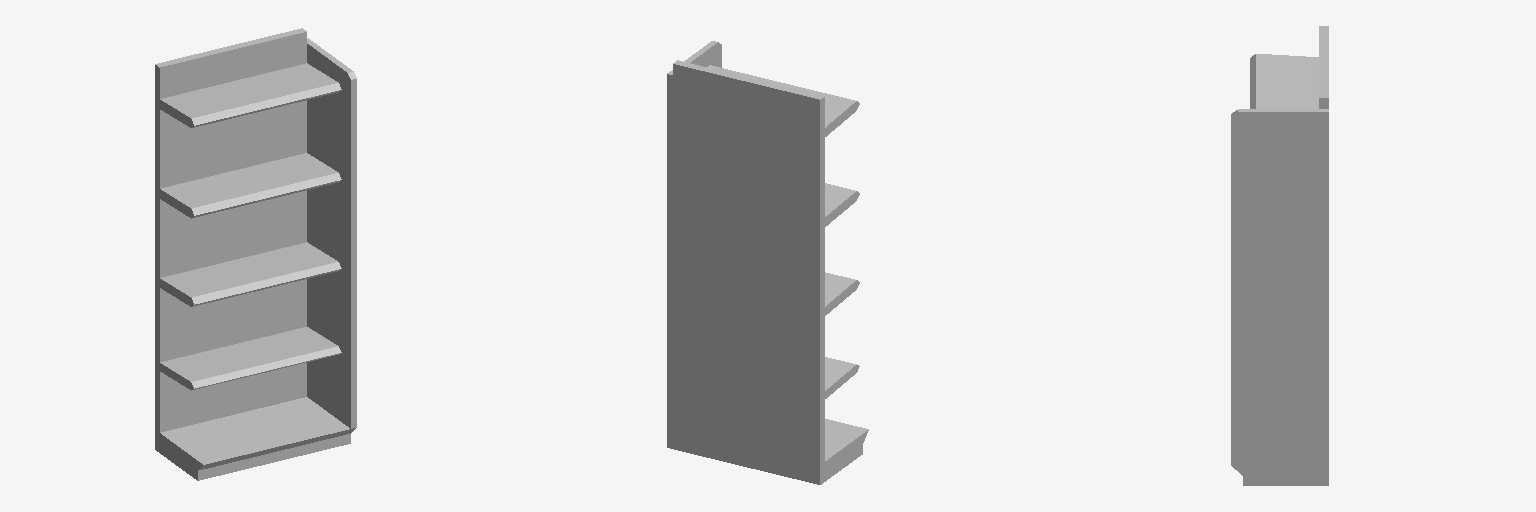
The model's file is GeneralShelves(EndRight).obj.
The picture shows the model from 3 angles: view 1: azimuth 30°, elevation 25°; view 2: azimuth 150°, elevation 25°; view 3: azimuth 270°, elevation 25°; orthographic projection.
Visible parts, largest first — view 1: EndRight; view 2: EndRight; view 3: EndRight.
Part boxes in pixels (x1,y1,x2,y2): EndRight: (155, 28, 356, 480); EndRight: (667, 41, 868, 484); EndRight: (1231, 26, 1328, 485).
Bounding box in the file's own units: 3.87 × 9.3 × 2.13.